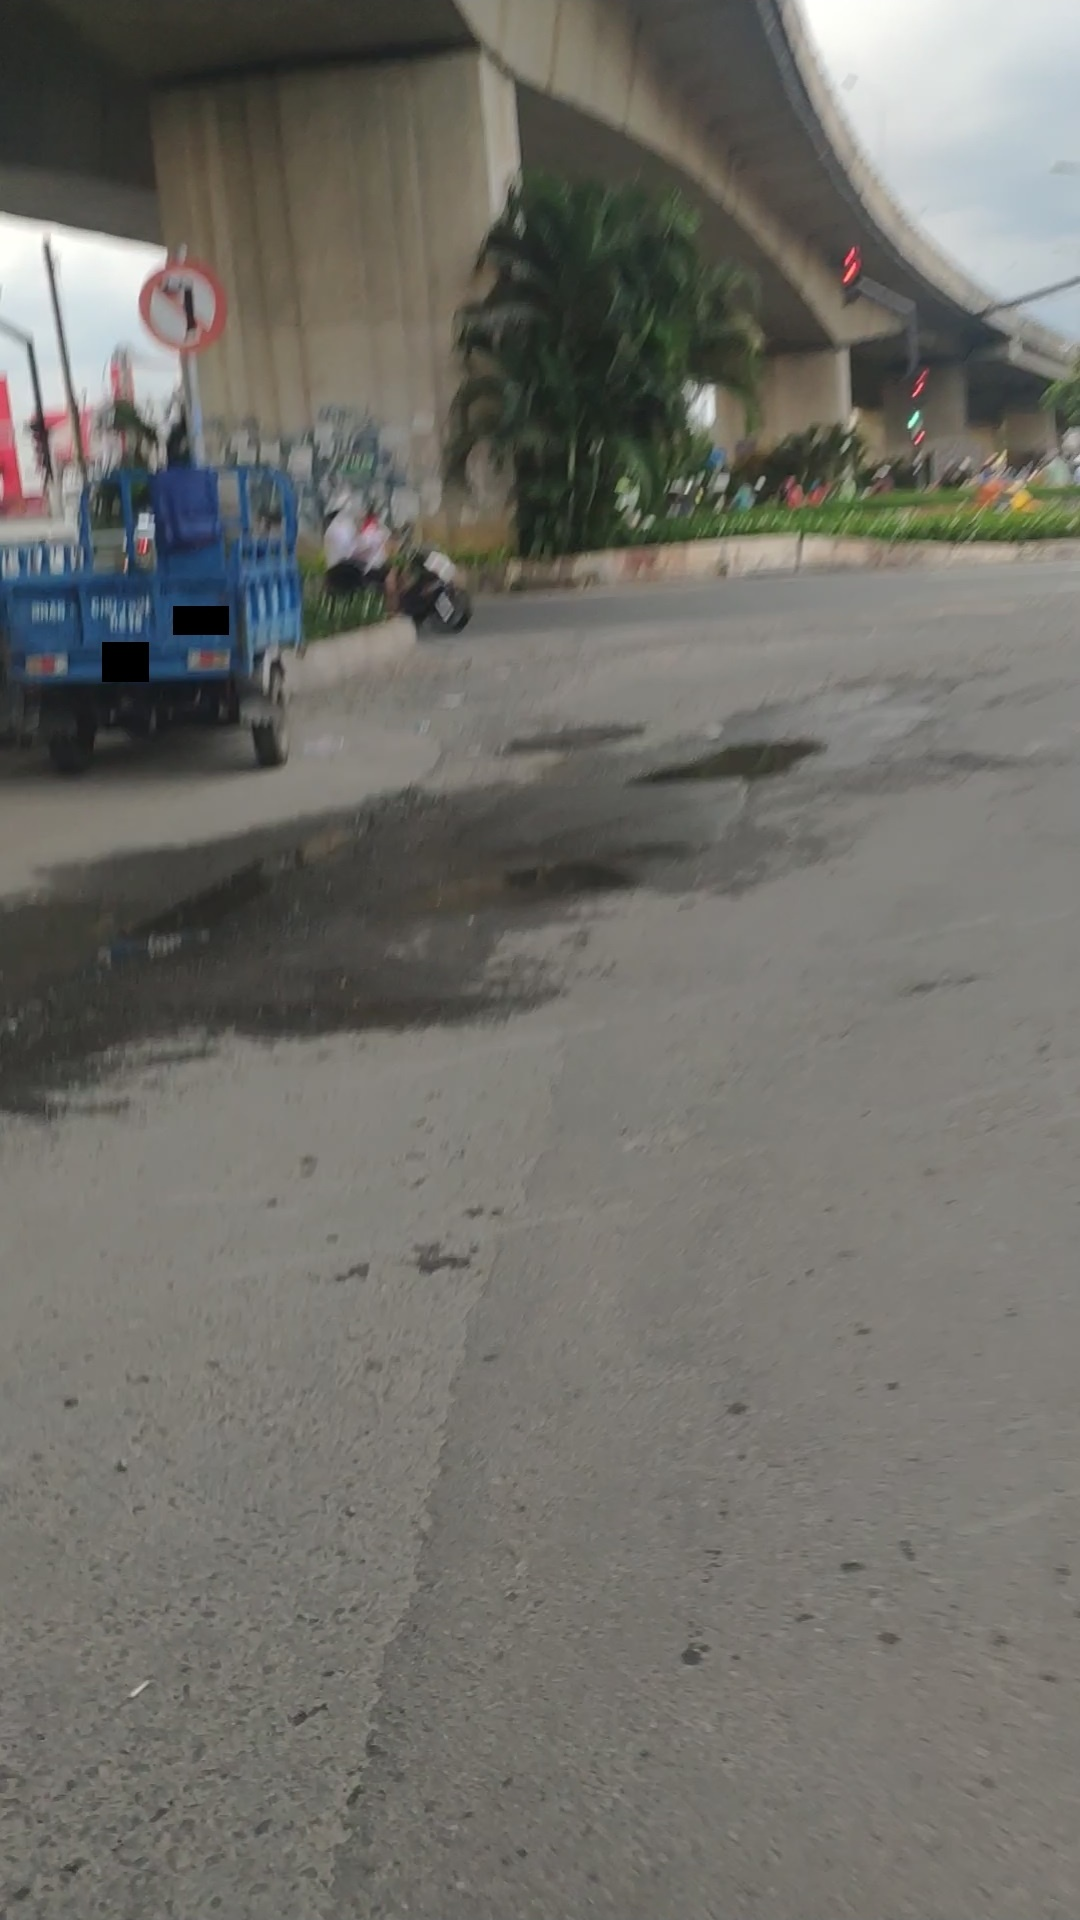hole: (113, 810, 378, 963), (423, 851, 688, 920), (640, 735, 833, 779), (488, 720, 644, 764)
